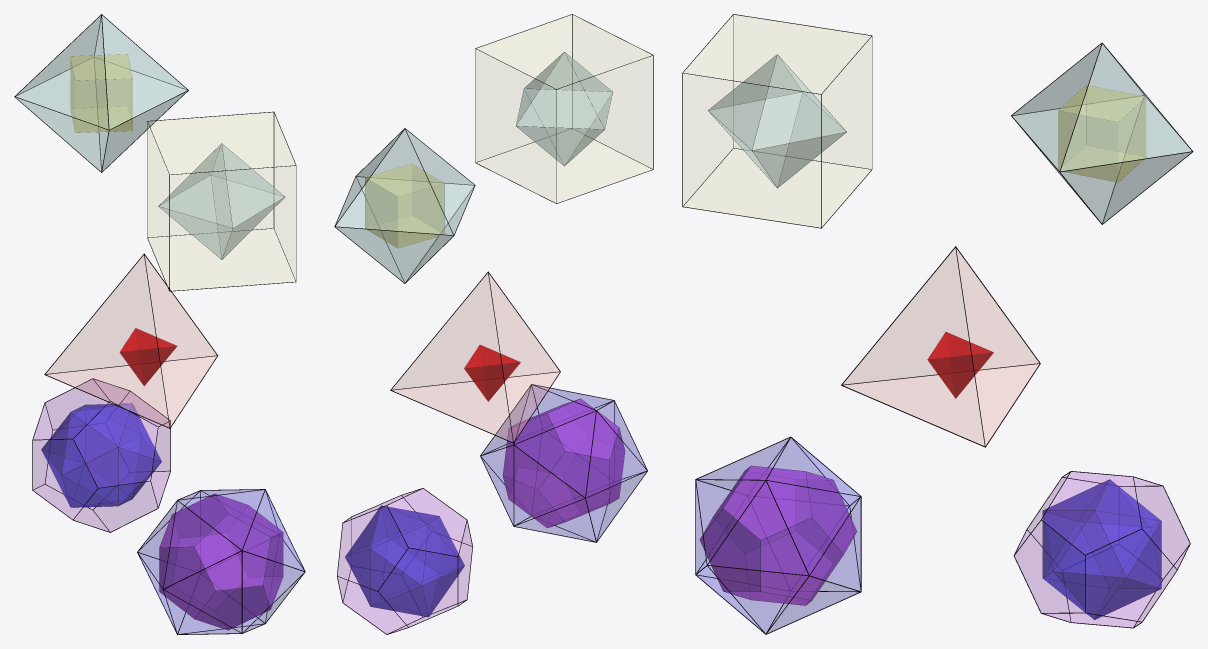
Rendered from dualidades.glb.
The picture shows the model from 3 angles, left to right: view 1: azimuth 30°, elevation 25°; view 2: azimuth 150°, elevation 25°; view 3: azimuth 270°, elevation 25°; orthographic projection. The views are drawn at different scales.
Visible parts, largest first — view 1: Solid.010, Cube.002, Solid.014, Solid, Solid.006, Solid.008, Solid.012, Solid.002, Cube, Solid.011, Solid.004, Cube.003 (+6 smaller); view 2: Cube.002, Solid.010, Solid.014, Solid.006, Solid, Solid.008, Solid.012, Solid.002, Cube, Solid.011, Solid.004, Solid.015 (+6 smaller); view 3: Cube.002, Solid.010, Solid.014, Solid.006, Solid, Solid.008, Solid.012, Solid.002, Cube, Solid.011, Solid.004, Solid.015 (+5 smaller).
Part boxes in pixels (x1,y1,x2,y2): Solid.010: (138,490,303,633); Cube.002: (148,113,295,290); Solid.014: (33,379,170,531); Solid: (16,15,187,171); Solid.006: (46,256,216,426); Solid.008: (159,494,282,629); Solid.012: (42,404,161,507); Solid.002: (159,144,284,259); Cube: (70,54,132,132); Solid.011: (137,489,305,634); Solid.004: (119,328,176,385); Cube.003: (147,111,296,291); Cube.002: (476,15,652,202); Solid.010: (481,385,646,541); Solid.014: (338,489,472,633); Solid.006: (392,274,559,441); Solid: (336,129,474,282); Solid.008: (503,399,624,527); Solid.012: (345,506,464,616); Solid.002: (516,52,612,165); Cube: (366,164,443,247); Solid.011: (480,384,647,542); Solid.004: (464,345,520,401); Solid.015: (337,488,472,634); Cube.002: (683,15,871,226); Solid.010: (696,438,860,632); Solid.014: (1015,472,1189,627); Solid.006: (843,248,1038,445); Solid: (1012,44,1191,223); Solid.008: (700,466,856,605); Solid.012: (1043,480,1161,619); Solid.002: (708,55,845,187); Cube: (1058,85,1145,181); Solid.011: (695,436,861,634); Solid.004: (927,332,993,398); Solid.015: (1013,471,1190,628).
Size of the model in its own units: 3.47 by 10.4 by 8.26.
